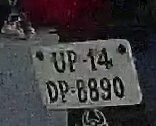0: (111, 76, 126, 101)
1: (86, 51, 98, 74)
4: (97, 48, 113, 71)
8: (75, 79, 89, 102), (88, 78, 100, 101)
9: (100, 77, 111, 102)
D: (45, 81, 60, 107)
P: (67, 50, 80, 73), (58, 80, 69, 102)
U: (52, 50, 68, 74)
